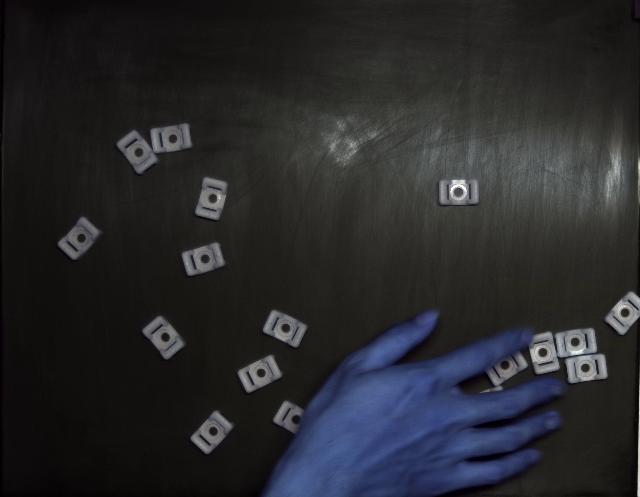first_side: (190, 411, 234, 455), (142, 316, 185, 360), (58, 218, 102, 260), (262, 310, 308, 348), (238, 355, 282, 392), (181, 242, 226, 276), (605, 292, 640, 335), (195, 178, 228, 221), (150, 124, 192, 154), (555, 329, 598, 358), (439, 179, 479, 206)
